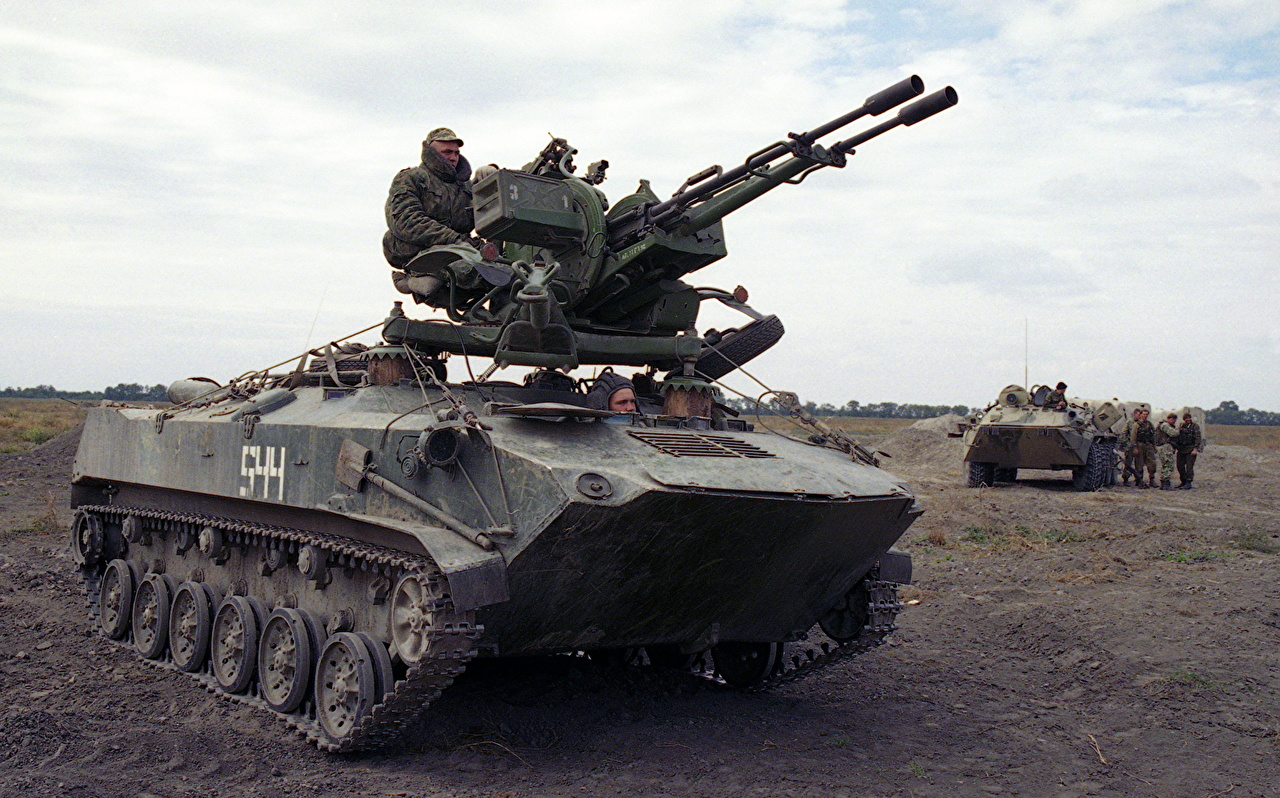btr: (74, 83, 958, 749), (944, 380, 1129, 494)
human: (1174, 409, 1214, 491), (1134, 408, 1156, 485), (1119, 408, 1140, 485), (1159, 414, 1177, 490)
pilot: (370, 131, 515, 285), (575, 361, 665, 423), (1035, 379, 1077, 413)
